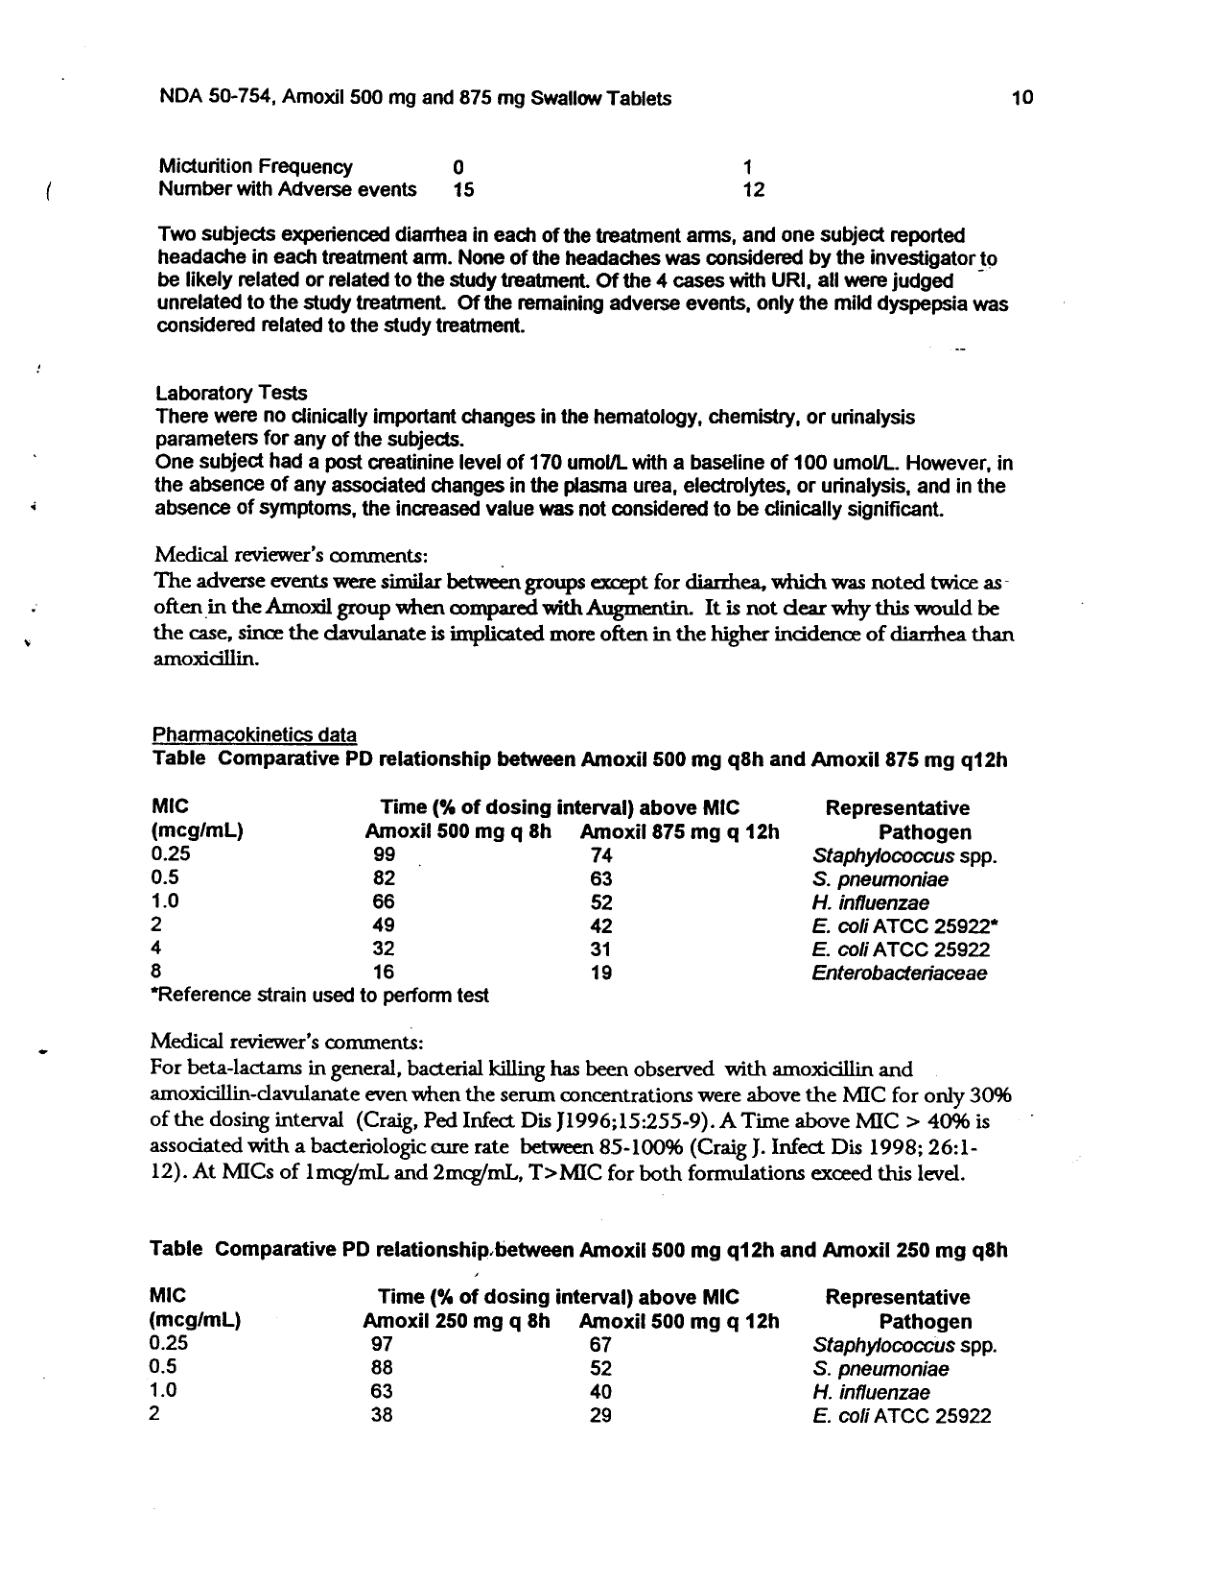nolines: (148, 793, 999, 985), (146, 1284, 1001, 1426)
